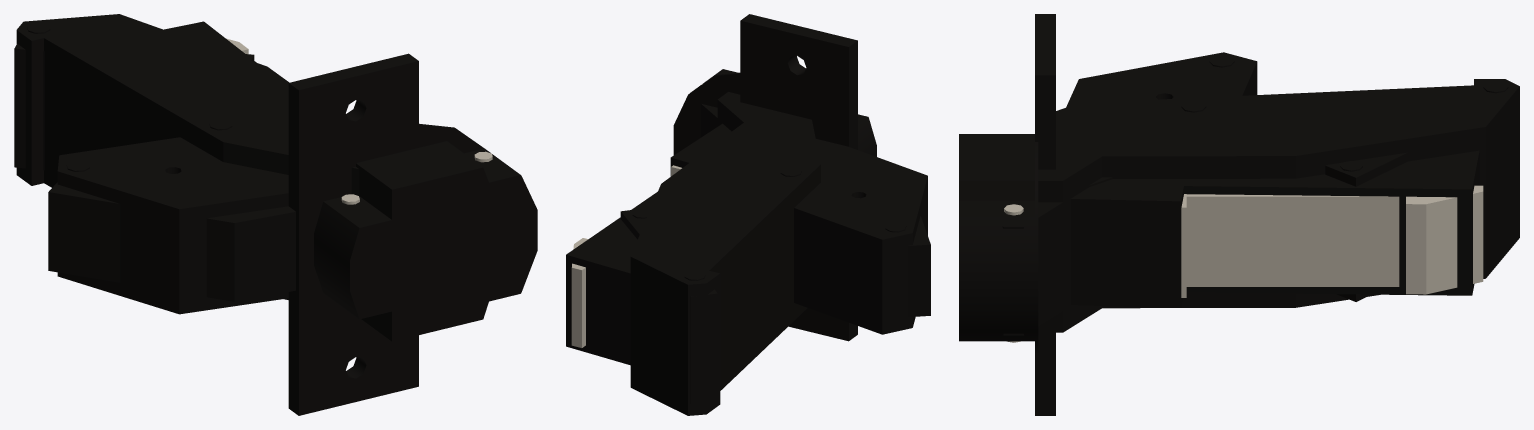
3 renders of one model, left to right at view 1: azimuth 30°, elevation 25°; view 2: azimuth 150°, elevation 25°; view 3: azimuth 270°, elevation 25°, orthographic. The views are drawn at different scales.
Visible parts, largest first — view 1: bau0079302490-1, bau0081904857-1, bau0081906013-1, bau0079324562-1, bau0081905528-1, bau0079262819-1; view 2: bau0081904857-1, bau0081906013-1, bau0079302490-1, bau0079262819-1, bau0081905528-1, bau0079324562-1, bau0025540121-1; view 3: bau0081904857-1, bau0025540121-1, bau0079262819-1, bau0079302490-1, bau0081906013-1, bau0081905528-1.
Boxes of the visible parts, box(x1,y1,x2,y2) form: bau0079302490-1: box(288, 53, 537, 415); bau0081904857-1: box(16, 14, 359, 299); bau0081906013-1: box(57, 137, 288, 314); bau0079324562-1: box(48, 182, 295, 301); bau0081905528-1: box(14, 43, 254, 170); bau0079262819-1: box(164, 21, 256, 62); bau0081904857-1: box(630, 92, 820, 415); bau0081906013-1: box(794, 139, 927, 334); bau0079302490-1: box(673, 14, 876, 341); bau0079262819-1: box(566, 123, 731, 365); bau0081905528-1: box(620, 207, 717, 404); bau0079324562-1: box(907, 216, 930, 317); bau0025540121-1: box(571, 165, 681, 347); bau0081904857-1: box(1002, 79, 1519, 335); bau0025540121-1: box(1181, 185, 1483, 297); bau0079262819-1: box(1070, 150, 1479, 307); bau0079302490-1: box(959, 14, 1055, 415); bau0081906013-1: box(1056, 52, 1257, 186); bau0081905528-1: box(1325, 152, 1407, 301).
Size of the model in its own units: 67.42 by 57 by 85.02.
